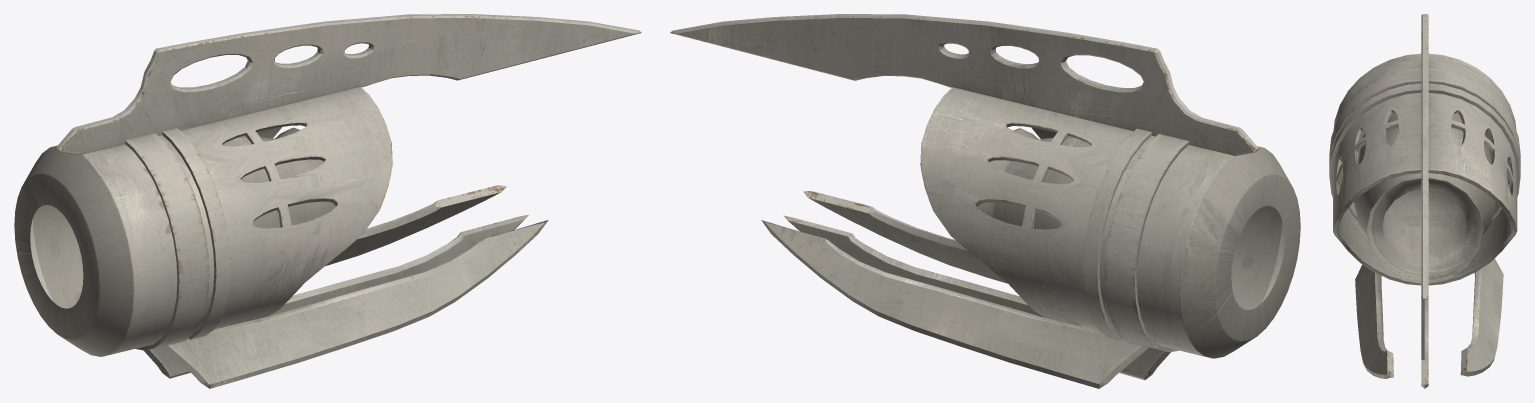
The model's file is guard_17_r_d.glb.
3 renders of one model, left to right at view 1: azimuth 30°, elevation 25°; view 2: azimuth 150°, elevation 25°; view 3: azimuth 270°, elevation 25°, orthographic. The views are drawn at different scales.
Parts seen in each view (by area): view 1: guard_17_r_d_lod0; view 2: guard_17_r_d_lod0; view 3: guard_17_r_d_lod0.
Part boxes in pixels (x1,y1,x2,y2): guard_17_r_d_lod0: (14,14,641,388); guard_17_r_d_lod0: (670,14,1300,388); guard_17_r_d_lod0: (1329,14,1520,388).
Size of what is drawn, in the model's own units: 0.1042 by 0.0567 by 0.0348.
1 material, 1 textured.
